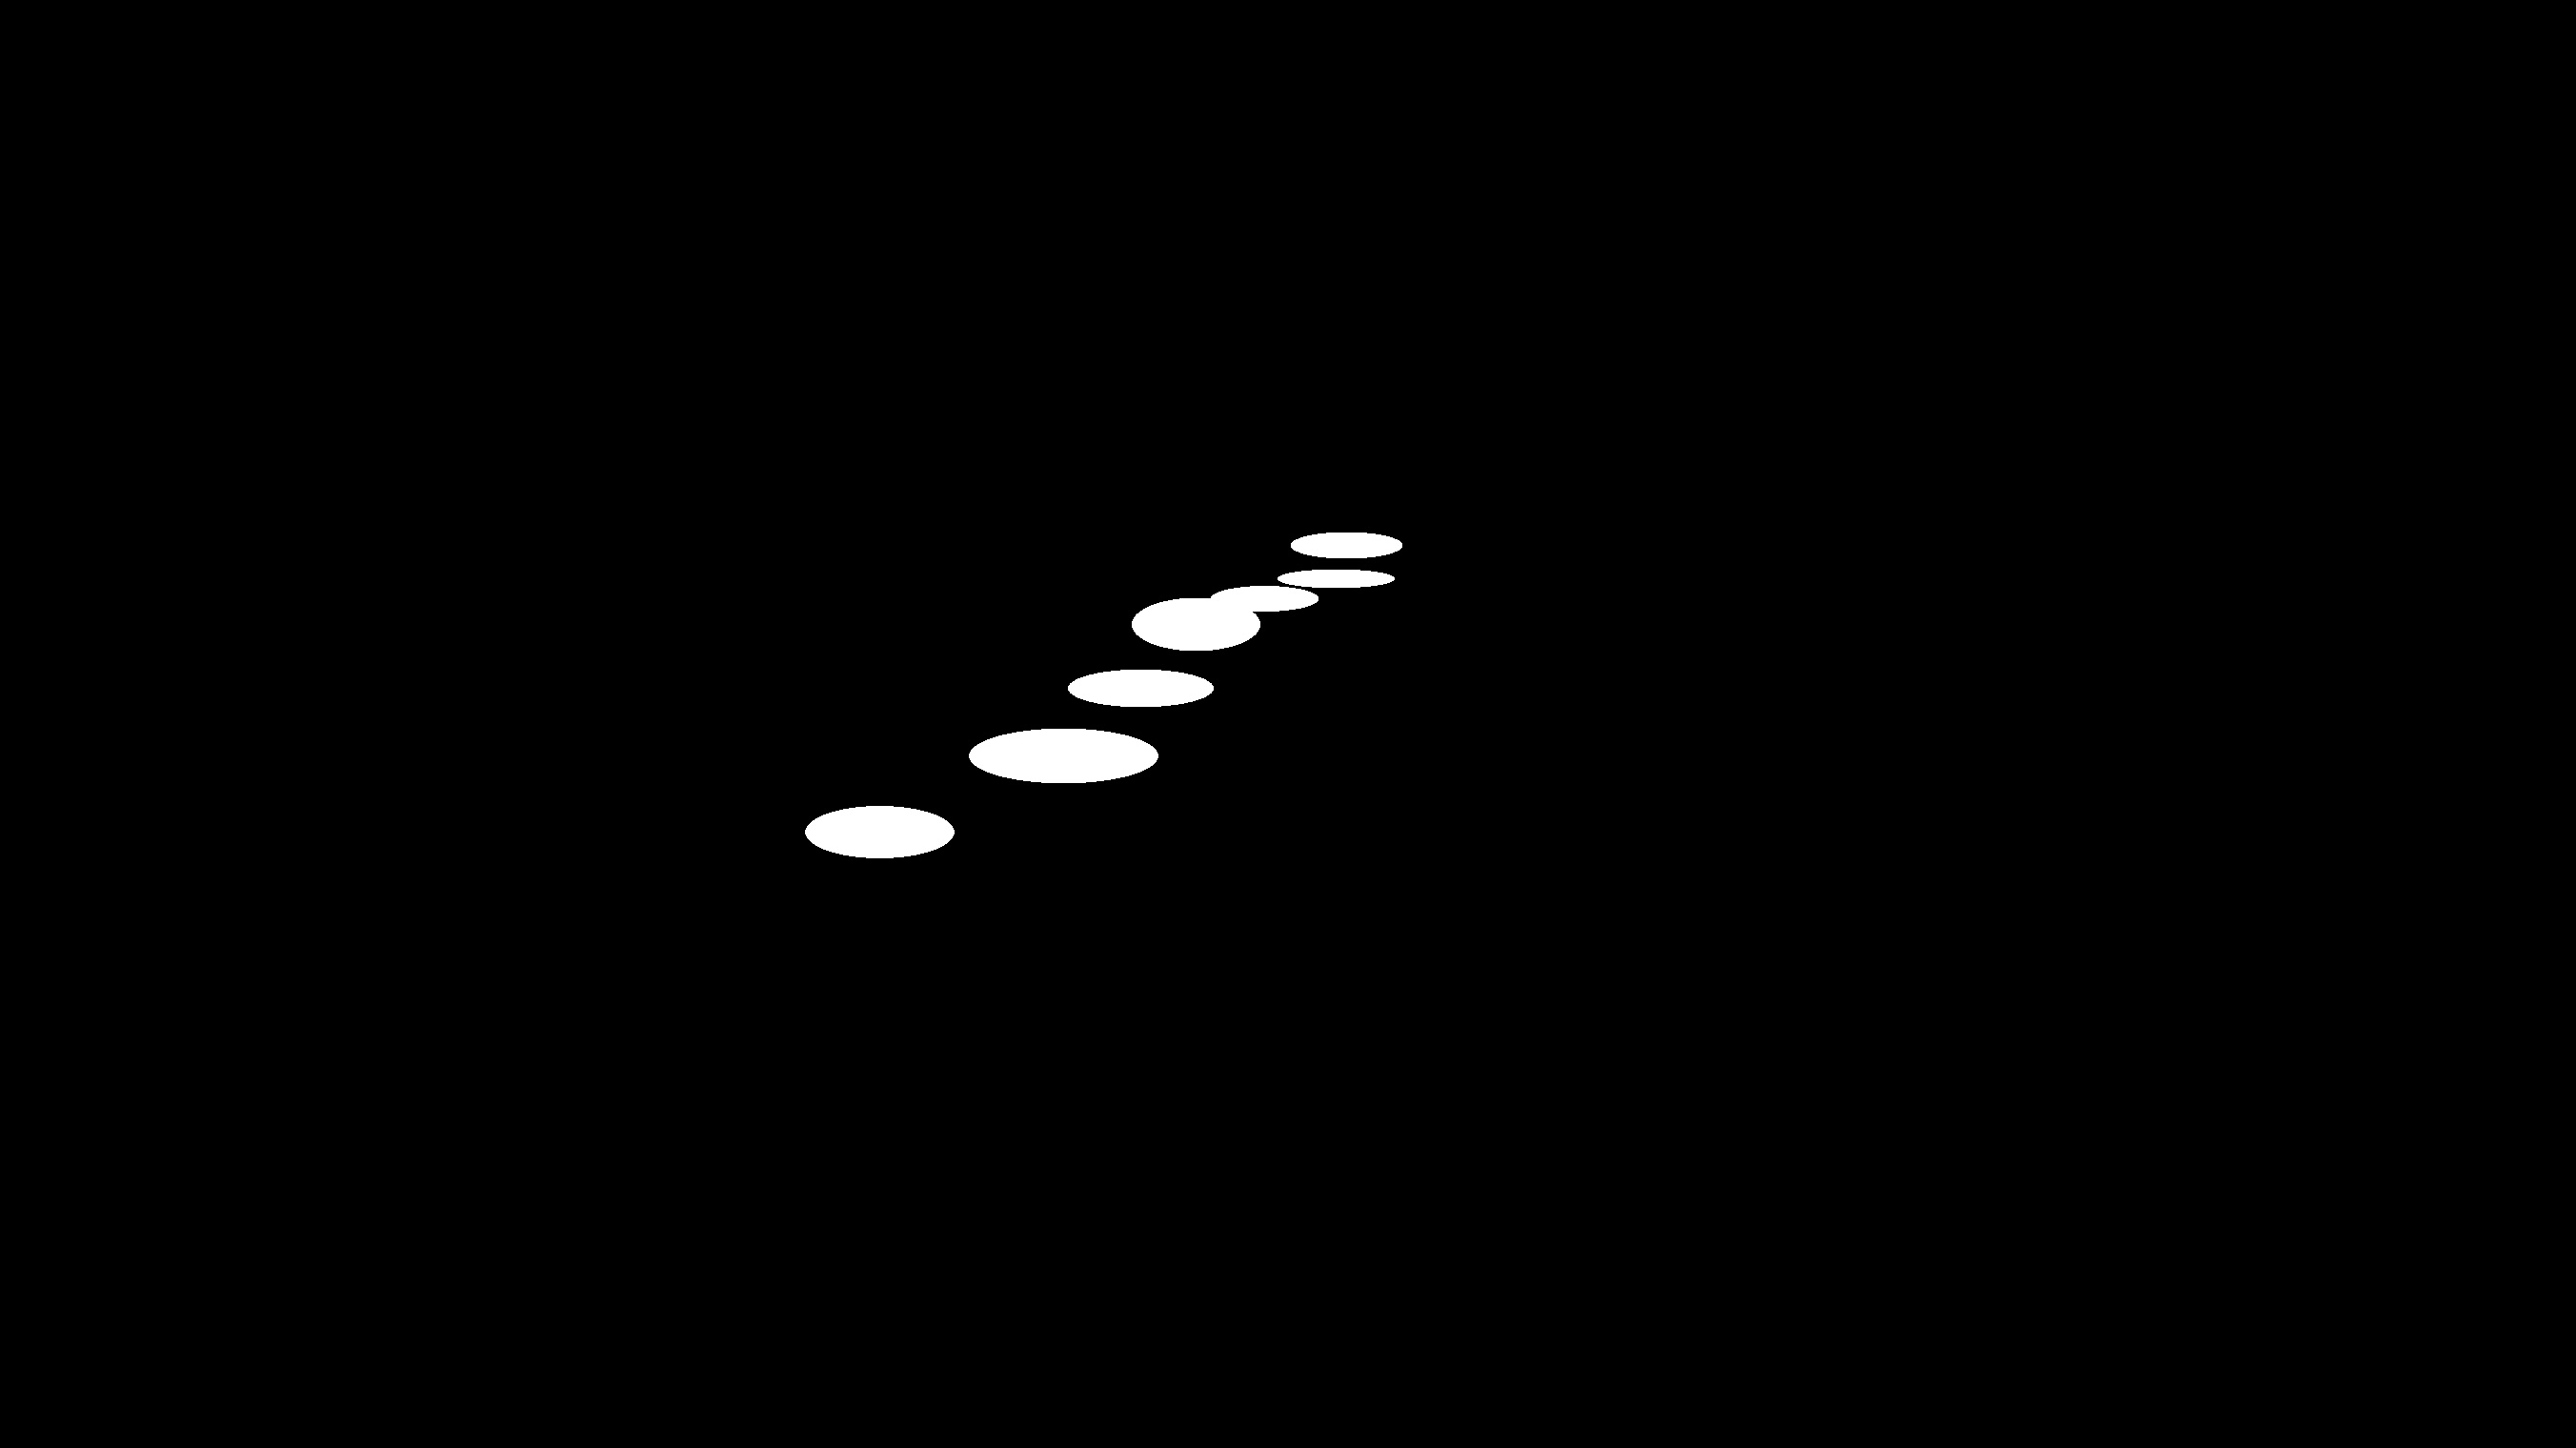swimmer: (959, 726, 1169, 786), (796, 804, 962, 860), (1123, 595, 1267, 653), (1060, 667, 1221, 708), (1284, 531, 1408, 559), (1205, 584, 1323, 612), (1270, 568, 1401, 589), (1320, 517, 1398, 533)
